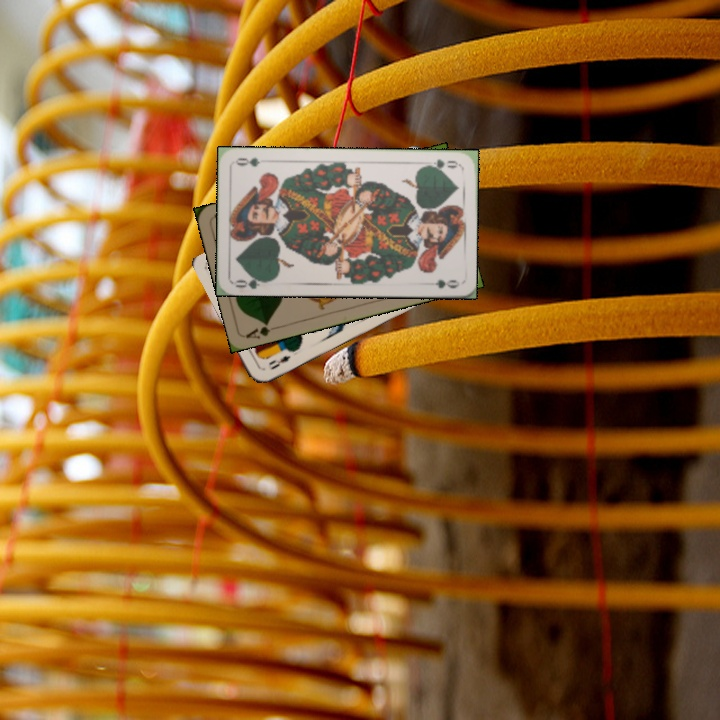EO: (265, 351, 293, 373)
GA: (242, 318, 282, 341)
GO: (231, 271, 272, 291), (421, 155, 462, 172)
